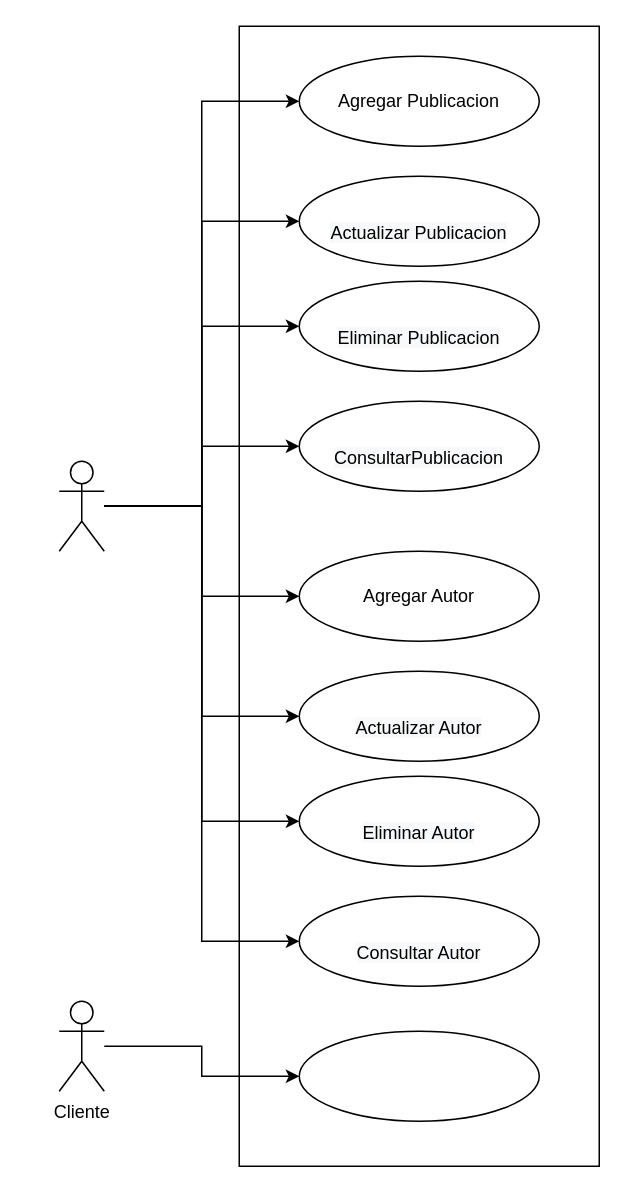
Image size: 626x1193. Some labels were removed from this diagram. Here are the shapes that lost their labels. From the top down, the centre of each, then its label:
At point 81,505: "Administrador".
At point 418,1075: "Cotizar libros".
